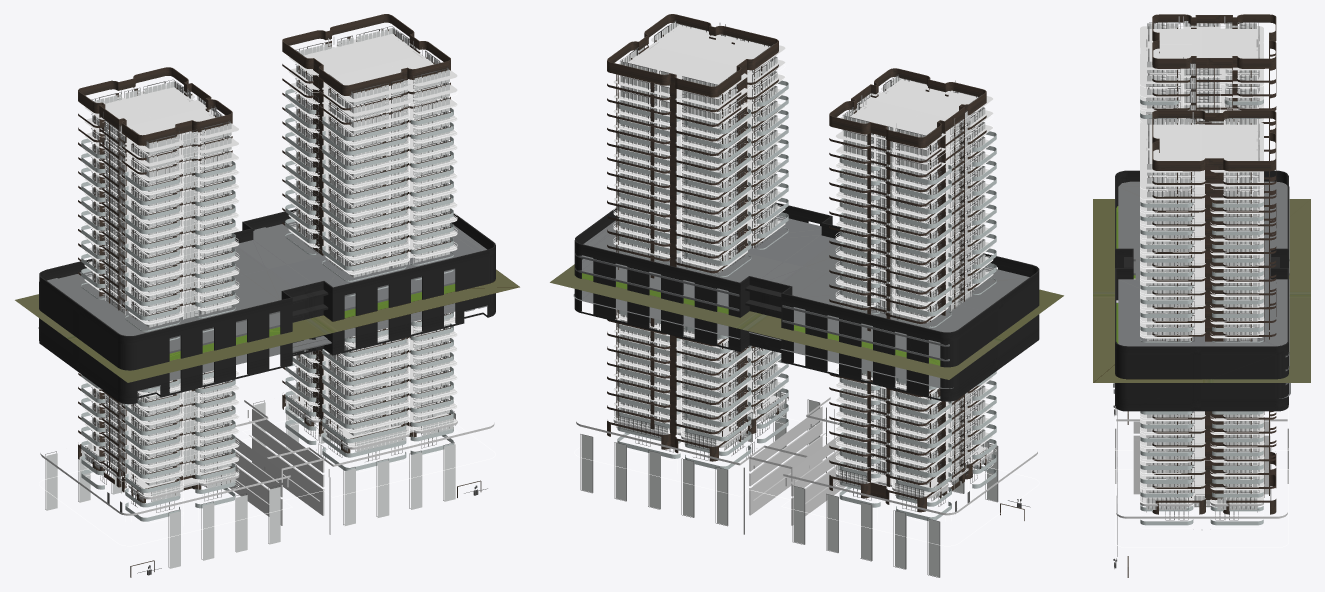
3 renders of one model, left to right at view 1: azimuth 30°, elevation 25°; view 2: azimuth 150°, elevation 25°; view 3: azimuth 270°, elevation 25°, orthographic. The views are drawn at different scales.
Visible parts, largest first — view 1: Stucco_-_White_Rough, Glass_-_Clear_Fast, Glass_-_Satin, Wood_-_MDF_Black, Wood_-_Walnut_Horizontal, Plastic_-_Black, Pavement_-_Asphalt_Light, Glass_-_Lamp, Grass_-_Brown, Paint_-_Anthracite, Paint_-_Light_Gray, Grass_-_Green; view 2: Stucco_-_White_Rough, Glass_-_Clear_Fast, Wood_-_Walnut_Horizontal, Glass_-_Satin, Wood_-_MDF_Black, Pavement_-_Asphalt_Light, Plastic_-_Black, Glass_-_Lamp, Grass_-_Brown, Paint_-_Anthracite, Paint_-_Light_Gray, Grass_-_Green; view 3: Stucco_-_White_Rough, Wood_-_Walnut_Horizontal, Glass_-_Clear_Fast, Wood_-_MDF_Black, Glass_-_Satin, Grass_-_Brown, Pavement_-_Asphalt_Light, Plastic_-_Black, Glass_-_Lamp, Paint_-_Anthracite, Paint_-_Light_Gray.
Boxes of the visible parts, x1,y1,x2,y2 form: Stucco_-_White_Rough: (40, 31, 494, 525); Glass_-_Clear_Fast: (46, 28, 455, 568); Glass_-_Satin: (81, 89, 453, 521); Wood_-_MDF_Black: (39, 208, 495, 404); Wood_-_Walnut_Horizontal: (78, 14, 481, 577); Plastic_-_Black: (45, 26, 487, 575); Pavement_-_Asphalt_Light: (38, 221, 487, 391); Glass_-_Lamp: (39, 73, 495, 546); Grass_-_Brown: (15, 269, 519, 382); Paint_-_Anthracite: (98, 87, 436, 512); Paint_-_Light_Gray: (81, 37, 453, 534); Grass_-_Green: (169, 284, 455, 360); Stucco_-_White_Rough: (576, 23, 1037, 525); Glass_-_Clear_Fast: (581, 21, 998, 577); Wood_-_Walnut_Horizontal: (607, 14, 1024, 520); Glass_-_Satin: (617, 80, 996, 520); Wood_-_MDF_Black: (574, 202, 1039, 401); Pavement_-_Asphalt_Light: (573, 215, 1029, 388); Plastic_-_Black: (580, 20, 1030, 577); Glass_-_Lamp: (574, 64, 1039, 546); Grass_-_Brown: (550, 264, 1063, 379); Paint_-_Anthracite: (635, 79, 978, 512); Paint_-_Light_Gray: (617, 23, 996, 534); Grass_-_Green: (582, 273, 940, 365); Stucco_-_White_Rough: (1116, 26, 1287, 518); Wood_-_Walnut_Horizontal: (1127, 14, 1276, 577); Glass_-_Clear_Fast: (1146, 21, 1257, 509); Wood_-_MDF_Black: (1115, 170, 1288, 411); Glass_-_Satin: (1140, 96, 1263, 525); Grass_-_Brown: (1093, 199, 1310, 382); Pavement_-_Asphalt_Light: (1113, 181, 1290, 398); Plastic_-_Black: (1113, 20, 1259, 568); Glass_-_Lamp: (1115, 84, 1288, 547); Paint_-_Anthracite: (1146, 84, 1257, 520); Paint_-_Light_Gray: (1115, 16, 1288, 501).
Bounding box in the file's own units: 163835 × 170061 × 81960.
21 materials, 13 textured.
